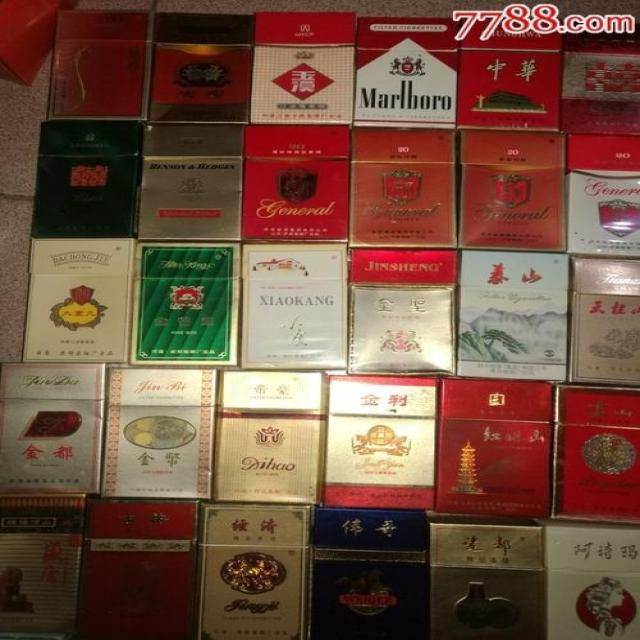box: (77, 500, 198, 640), (434, 379, 553, 517), (308, 508, 429, 640), (323, 375, 438, 509), (100, 368, 216, 500), (197, 506, 311, 640), (426, 515, 547, 640), (457, 252, 570, 382), (214, 373, 325, 505), (348, 249, 457, 376), (22, 240, 133, 364), (31, 120, 146, 239), (134, 123, 248, 241), (132, 243, 241, 366), (0, 365, 105, 492), (457, 130, 568, 250), (349, 127, 457, 248), (243, 246, 348, 367), (243, 126, 348, 243), (1, 496, 84, 640), (252, 12, 355, 128), (540, 521, 640, 640), (353, 17, 458, 130), (552, 385, 637, 524), (148, 14, 257, 121), (456, 20, 559, 132), (49, 11, 151, 121), (566, 132, 640, 258), (570, 258, 640, 385), (561, 25, 637, 135)
